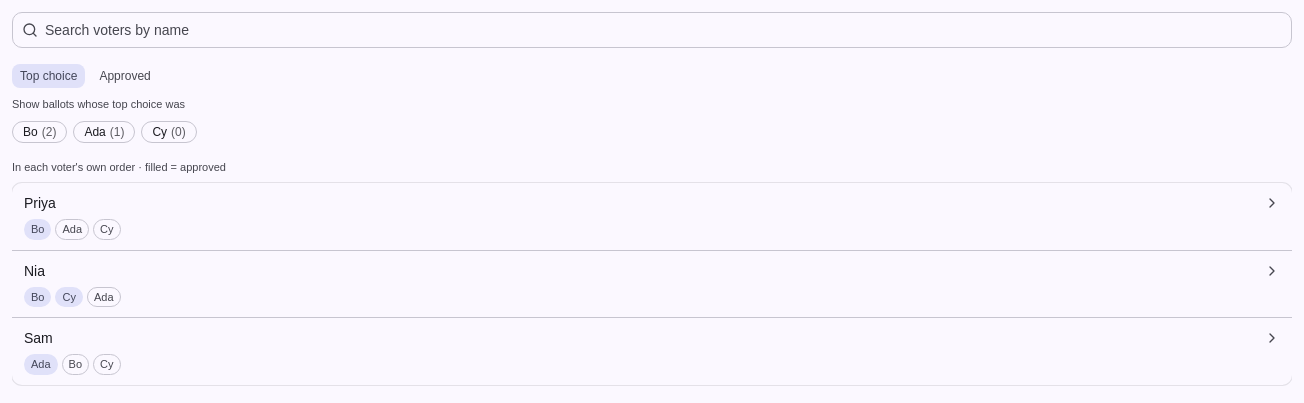
Test: BallotPicker candidate chips (#133) › says in words what the chips do, and follows the relation toggle
Expected: the text "Show ballots whose top choice was" is shown, left=12, top=98, right=185, bottom=110
Click the button "Approved". click: point(125, 76)
box: left=91, top=64, right=159, bottom=88
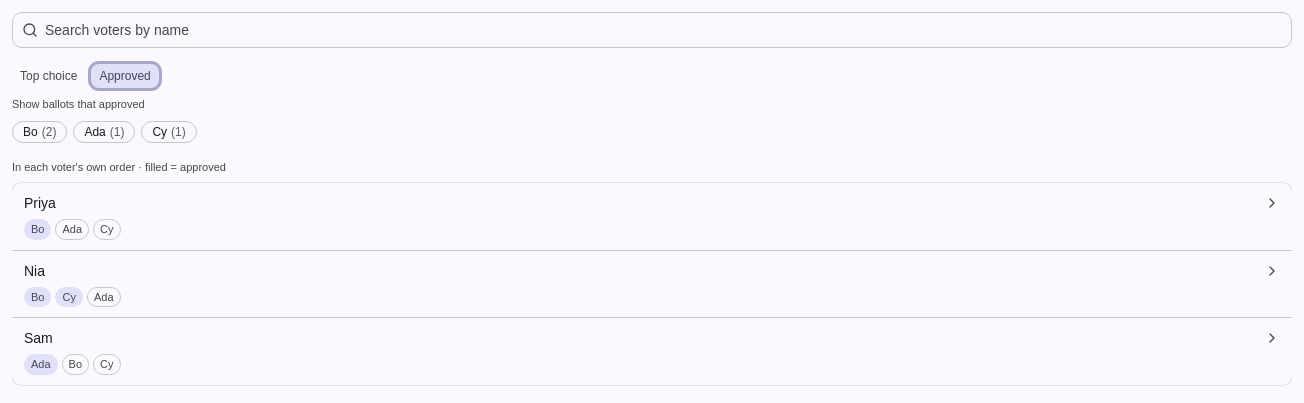
Expected: the text "Show ballots that approved" is shown, left=12, top=98, right=145, bottom=110
